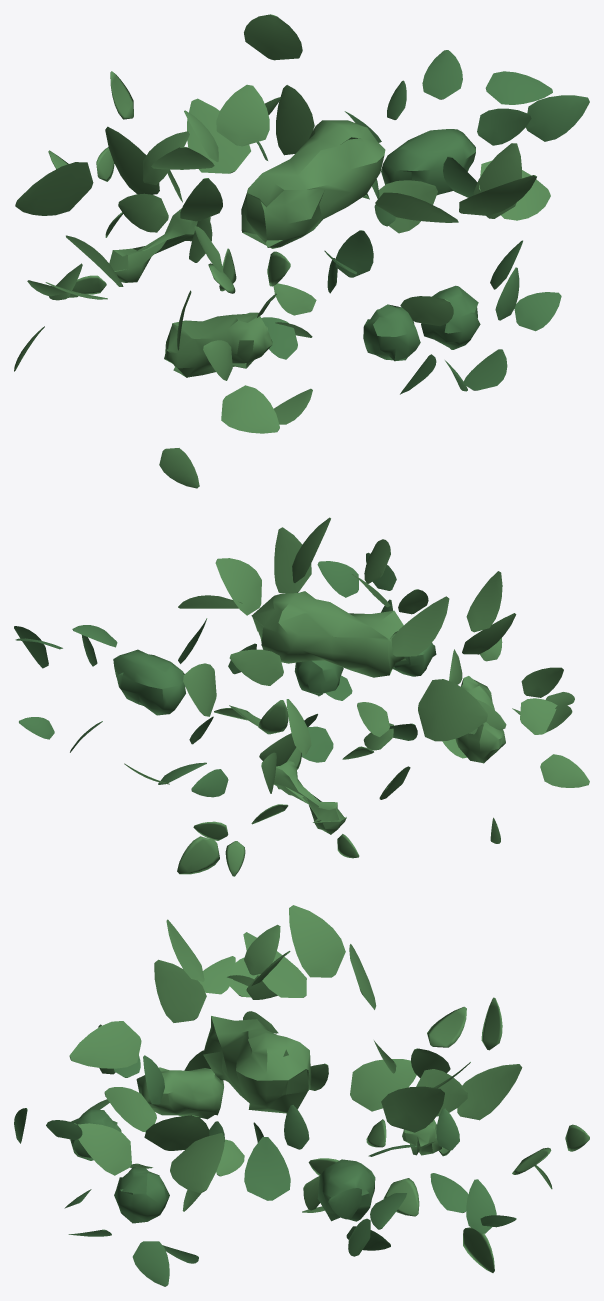
File: tree_small.glb
The picture shows the model from 3 angles, top to bottom: view 1: azimuth 30°, elevation 25°; view 2: azimuth 150°, elevation 25°; view 3: azimuth 270°, elevation 25°; orthographic projection. The views are drawn at different scales.
Parts seen in each view (by area): view 1: tree_small; view 2: tree_small; view 3: tree_small.
Part boxes in pixels (box(x1,y1,x2,y2)): tree_small: box(14, 14, 589, 488); tree_small: box(14, 517, 589, 876); tree_small: box(14, 905, 589, 1286).
Size of the model in its own units: 2.01 by 1.21 by 1.73.
